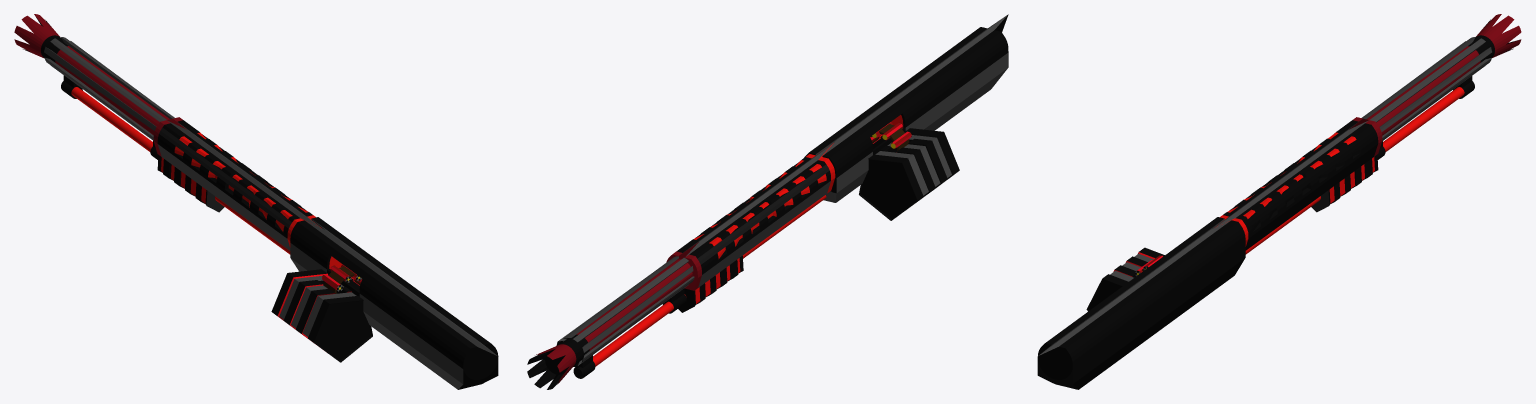
File: Shotgun5.fbx
The picture shows the model from 3 angles, left to right: view 1: azimuth 30°, elevation 25°; view 2: azimuth 150°, elevation 25°; view 3: azimuth 330°, elevation 25°; orthographic projection.
Parts seen in each view (by area): view 1: Окружность, Окружность.001, Окружность.006, Окружность.002, Окружность.004, Окружность.003; view 2: Окружность, Окружность.001, Окружность.006, Окружность.004, Окружность.002, Окружность.003; view 3: Окружность, Окружность.006, Окружность.001, Окружность.002, Окружность.004.
Part boxes in pixels (x1,y1,x2,y2): Окружность: [41, 35, 498, 389]; Окружность.001: [271, 269, 372, 362]; Окружность.006: [44, 37, 174, 140]; Окружность.002: [157, 155, 224, 212]; Окружность.004: [14, 14, 59, 58]; Окружность.003: [322, 264, 362, 293]; Окружность: [559, 14, 1008, 378]; Окружность.001: [859, 128, 959, 220]; Окружность.006: [556, 256, 694, 366]; Окружность.004: [527, 344, 576, 389]; Окружность.002: [678, 255, 743, 312]; Окружность.003: [870, 121, 911, 150]; Окружность: [1037, 35, 1494, 389]; Окружность.006: [1361, 37, 1491, 141]; Окружность.001: [1086, 247, 1164, 311]; Окружность.002: [1311, 154, 1378, 212]; Окружность.004: [1476, 14, 1521, 57].
Bounding box in the file's own units: 487 × 446 × 4625.
